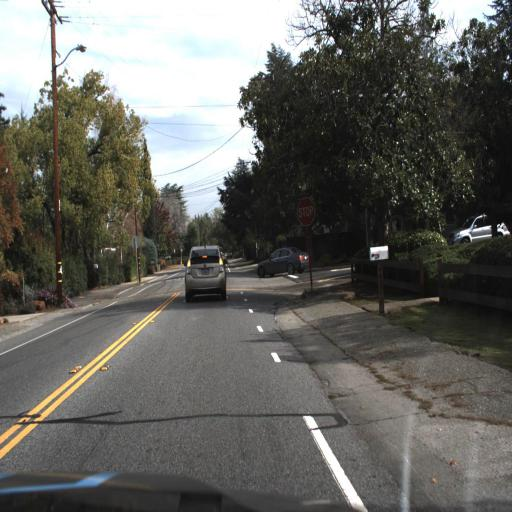car: (180, 239, 228, 304), (254, 245, 310, 277)
